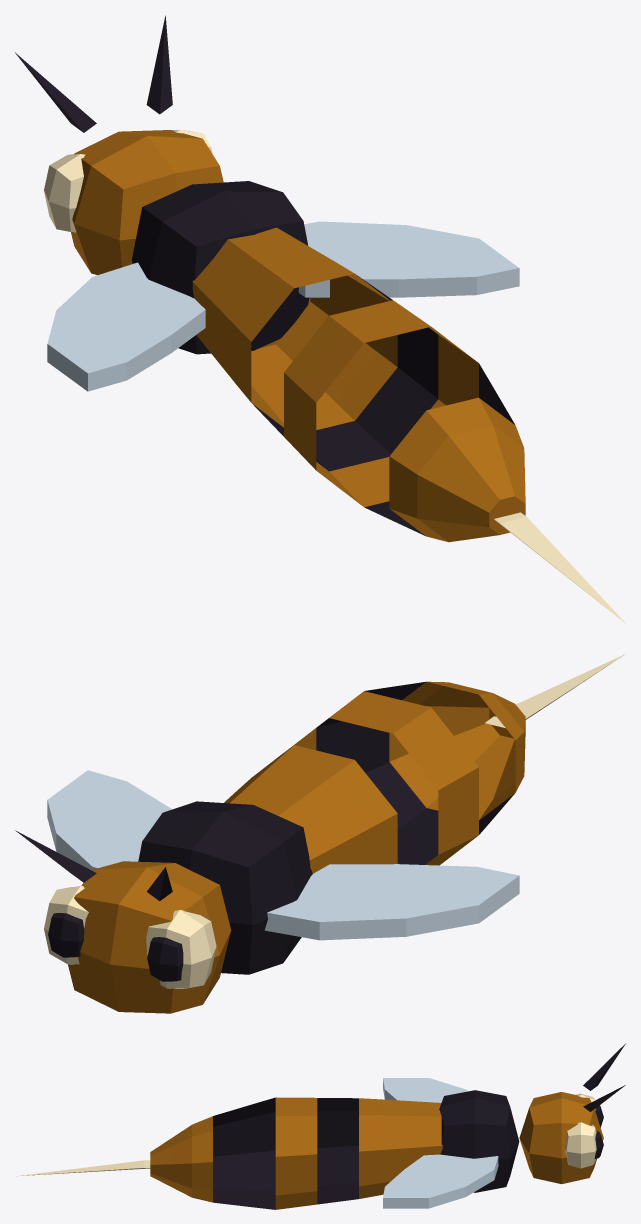
The model's file is wasp.glb.
The picture shows the model from 3 angles, top to bottom: view 1: azimuth 30°, elevation 25°; view 2: azimuth 150°, elevation 25°; view 3: azimuth 270°, elevation 25°; orthographic projection. The views are drawn at different scales.
Parts seen in each view (by area): view 1: waspBody, wingLeft, wingRight; view 2: waspBody, wingLeft, wingRight; view 3: waspBody, wingRight, wingLeft.
Boxes of the visible parts, <box> form: waspBody: <box>15,15,625,623</box>; wingLeft: <box>47,262,205,391</box>; wingRight: <box>298,221,519,297</box>; waspBody: <box>15,654,625,1013</box>; wingLeft: <box>264,864,519,940</box>; wingRight: <box>47,770,171,869</box>; waspBody: <box>16,1043,625,1209</box>; wingRight: <box>383,1154,498,1208</box>; wingLeft: <box>383,1078,468,1102</box>.
Size of the model in its own units: 0.296 by 0.1578 by 0.638.
